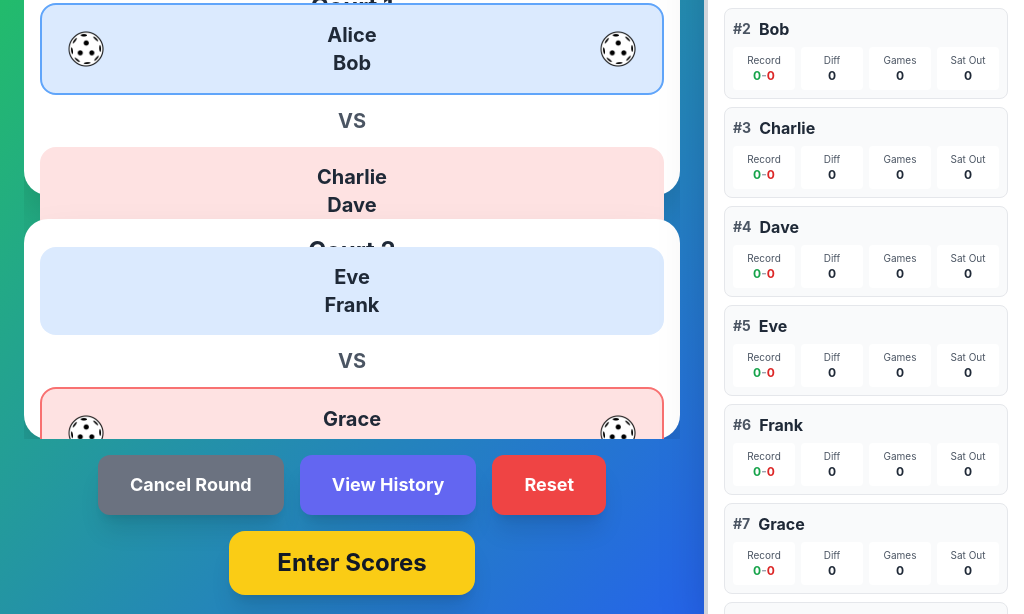
Scenario: App Integration Tests › State Transitions › transitions from SCORING to PLAYING when canceling score entry
// Enter scoring mode
Click the button "Enter Scores" at point(352, 563), box [229,531,475,595]
(page scrolled)
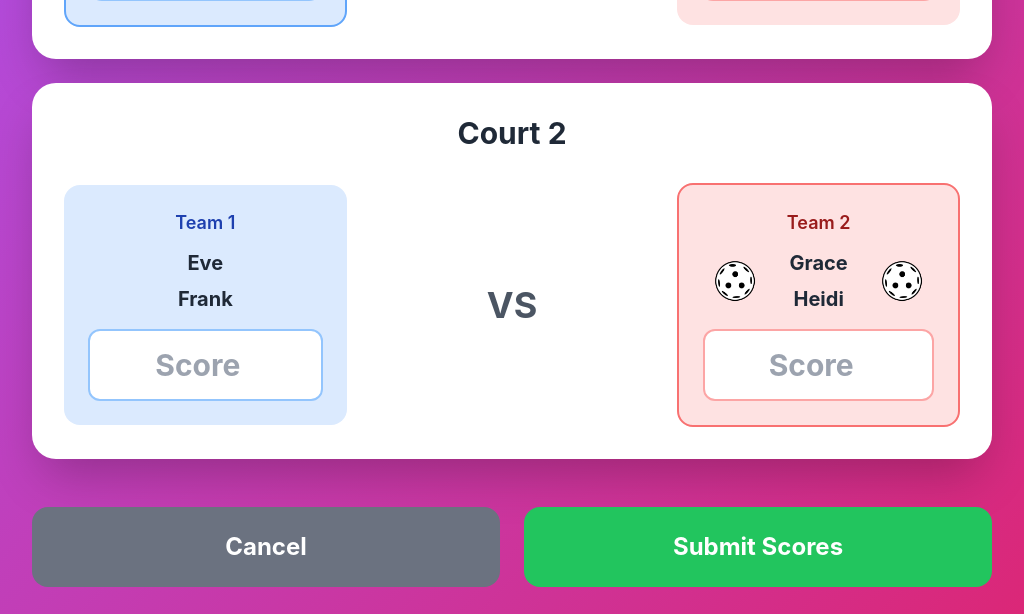
Check: the button "Submit Scores" is shown, box [524,507,992,587]
Click the button "Cancel" at point(266, 547), box [32,507,500,587]
(page scrolled)
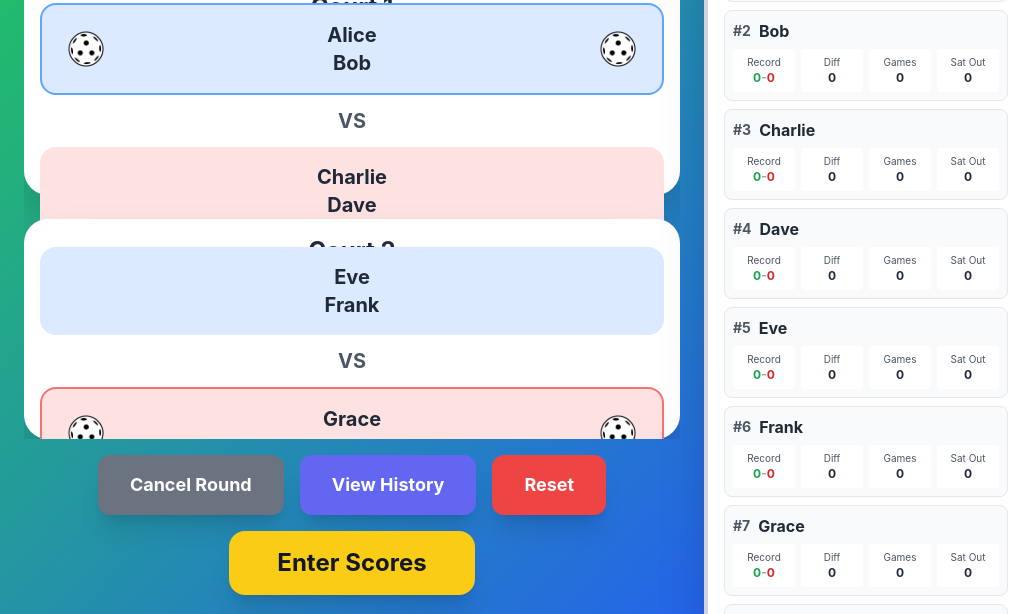
Check: the button "Submit Scores" is gone
